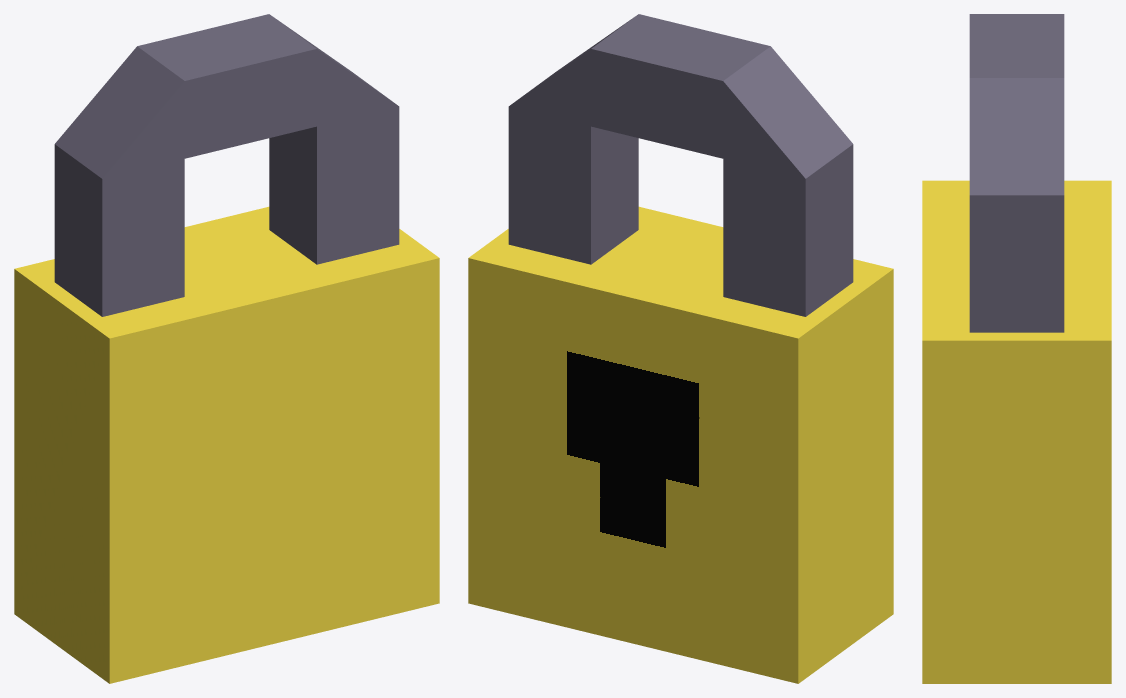
Rendered from lock.fbx.
The picture shows the model from 3 angles, left to right: view 1: azimuth 30°, elevation 25°; view 2: azimuth 150°, elevation 25°; view 3: azimuth 270°, elevation 25°; orthographic projection.
Visible parts, largest first — view 1: cube_2, cube_3, cube_4, cube_5, cube_1, cube; view 2: cube_2, cube_3, cube_4, cube_5, cube_1, cube; view 3: cube_2, cube_4, cube, cube_5.
Part boxes in pixels (x1=…): cube_2: x1=14, y1=206, x2=439, y2=683; cube_3: x1=54, y1=144, x2=184, y2=316; cube_4: x1=269, y1=106, x2=399, y2=264; cube_5: x1=137, y1=14, x2=316, y2=158; cube_1: x1=55, y1=46, x2=184, y2=178; cube: x1=274, y1=17, x2=398, y2=126; cube_2: x1=468, y1=206, x2=893, y2=683; cube_3: x1=723, y1=144, x2=853, y2=316; cube_4: x1=508, y1=106, x2=638, y2=264; cube_5: x1=591, y1=14, x2=770, y2=158; cube_1: x1=723, y1=46, x2=852, y2=178; cube: x1=509, y1=17, x2=633, y2=126; cube_2: x1=922, y1=180, x2=1111, y2=683; cube_4: x1=969, y1=195, x2=1064, y2=332; cube: x1=969, y1=78, x2=1064, y2=195; cube_5: x1=969, y1=14, x2=1064, y2=77.
Size of the model in its own units: 6.25 by 10.16 by 3.12.
Materials: 2 (2 with a texture image).
